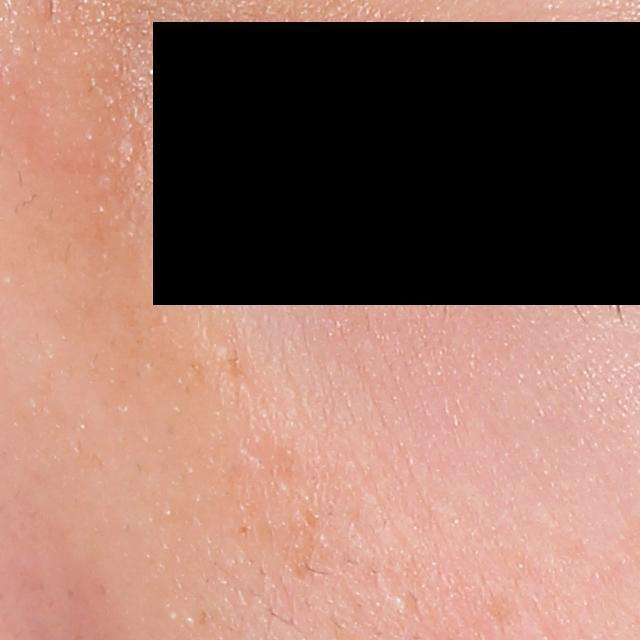comedo: (391, 592, 410, 609)
